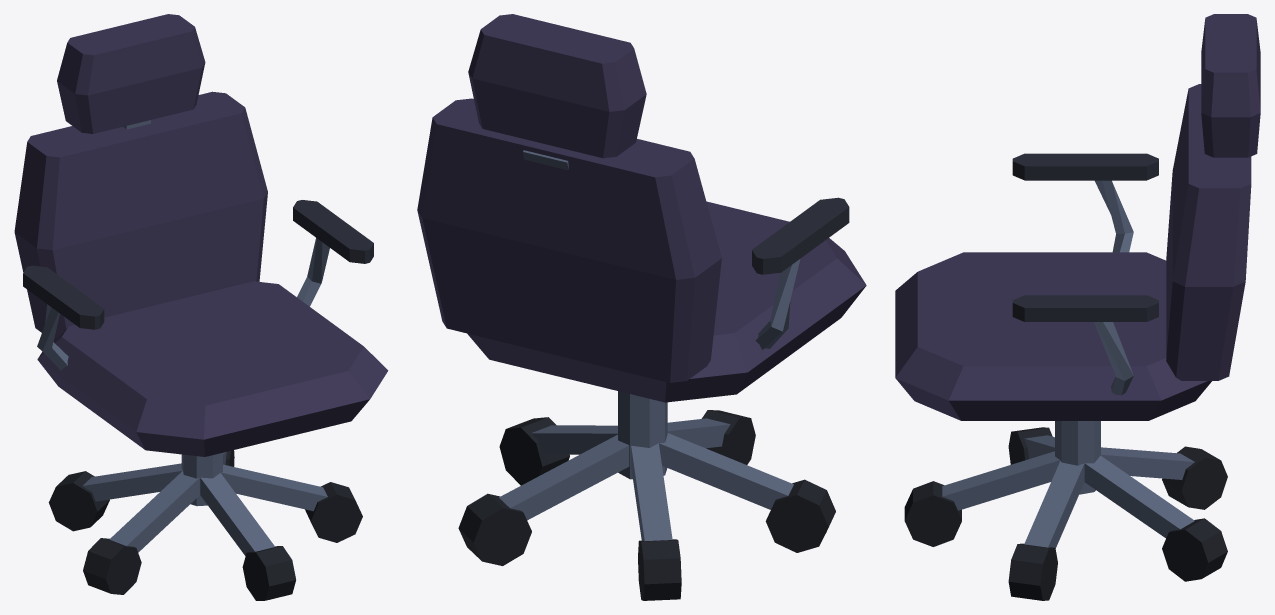
Rendered from off_office_chair.glb.
3 views of the same model, side by side, from view 1: azimuth 30°, elevation 25°; view 2: azimuth 150°, elevation 25°; view 3: azimuth 270°, elevation 25° (orthographic). The views are drawn at different scales.
Parts seen in each view (by area): view 1: headrest, arm_support, caster, arm_pad; view 2: headrest, arm_support, caster, arm_pad; view 3: headrest, arm_support, caster, arm_pad.
Part boxes in pixels (left/top/right/bottom): headrest: left=14, top=14, right=388, bottom=456; arm_support: left=37, top=120, right=329, bottom=555; caster: left=48, top=450, right=362, bottom=600; arm_pad: left=23, top=200, right=373, bottom=329; headrest: left=417, top=14, right=866, bottom=402; arm_support: left=499, top=150, right=800, bottom=540; caster: left=458, top=410, right=835, bottom=600; arm_pad: left=752, top=197, right=849, bottom=274; headrest: left=895, top=14, right=1260, bottom=420; arm_support: left=942, top=180, right=1194, bottom=548; caster: left=904, top=427, right=1227, bottom=600; arm_pad: left=1012, top=153, right=1158, bottom=321.
Size of the model in its own units: 0.7 by 1.05 by 0.7.
